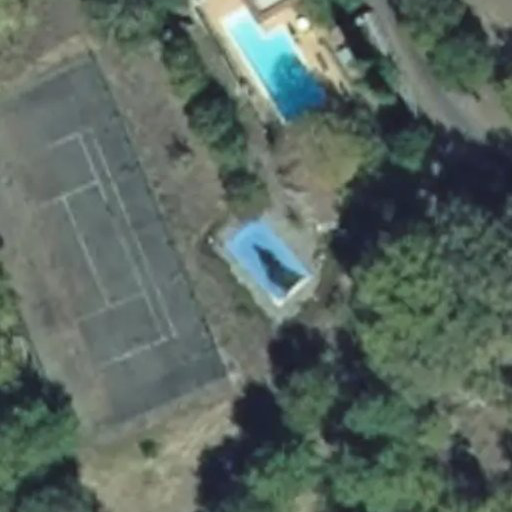pool: (215, 217, 296, 266)
